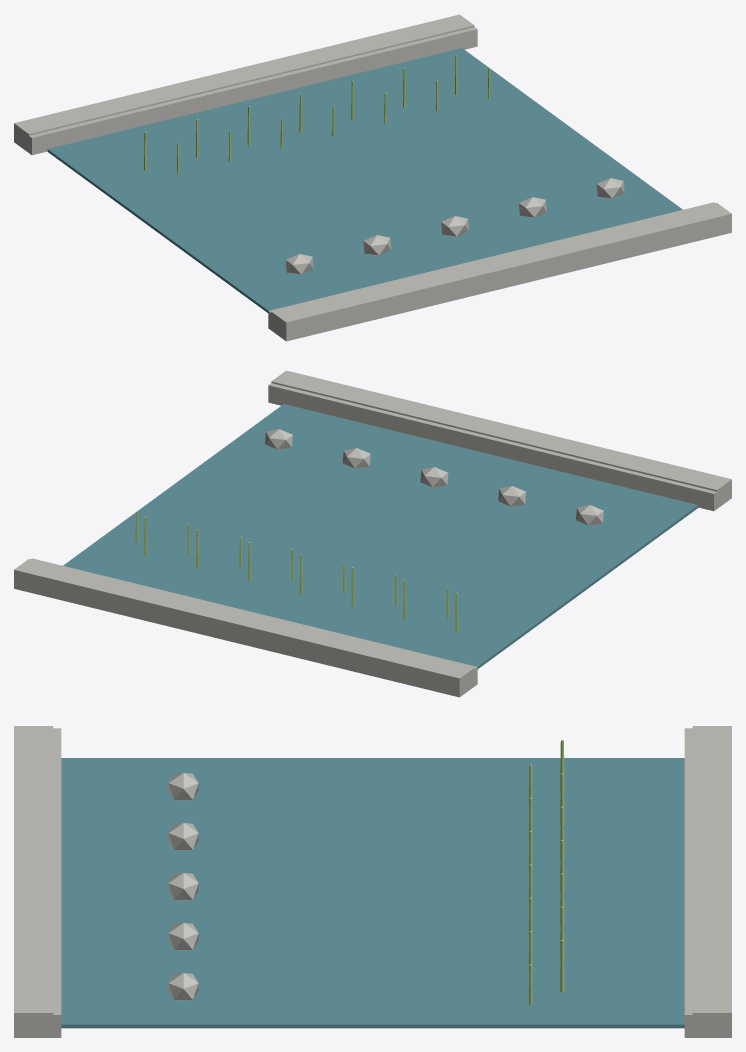
Rendered from SM_Env_River.fbx.
3 views of the same model, one above another, from view 1: azimuth 30°, elevation 25°; view 2: azimuth 150°, elevation 25°; view 3: azimuth 270°, elevation 25° (orthographic). The views are drawn at different scales.
Visible parts, largest first — view 1: River; view 2: River; view 3: River.
Boxes of the visible parts, bbox=[...] form: River: bbox=[14, 14, 731, 341]; River: bbox=[14, 370, 731, 697]; River: bbox=[14, 726, 731, 1037].
Size of the model in its own units: 8.6 by 0.76 by 9.1.
